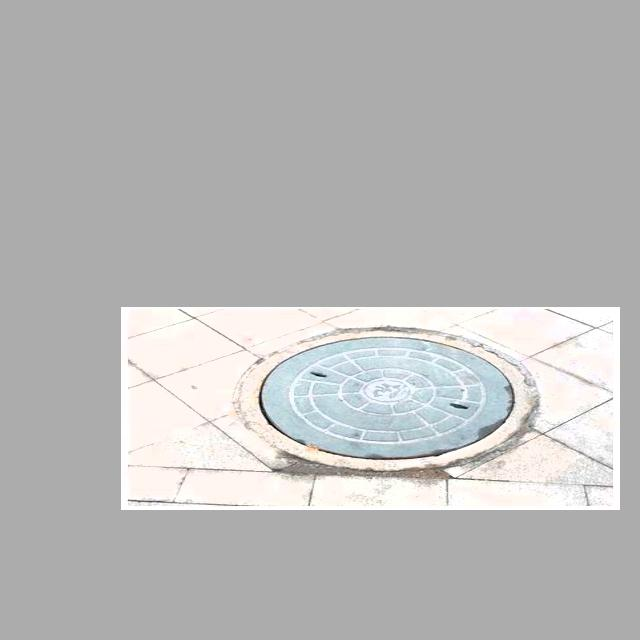good: (221, 319, 546, 479)
